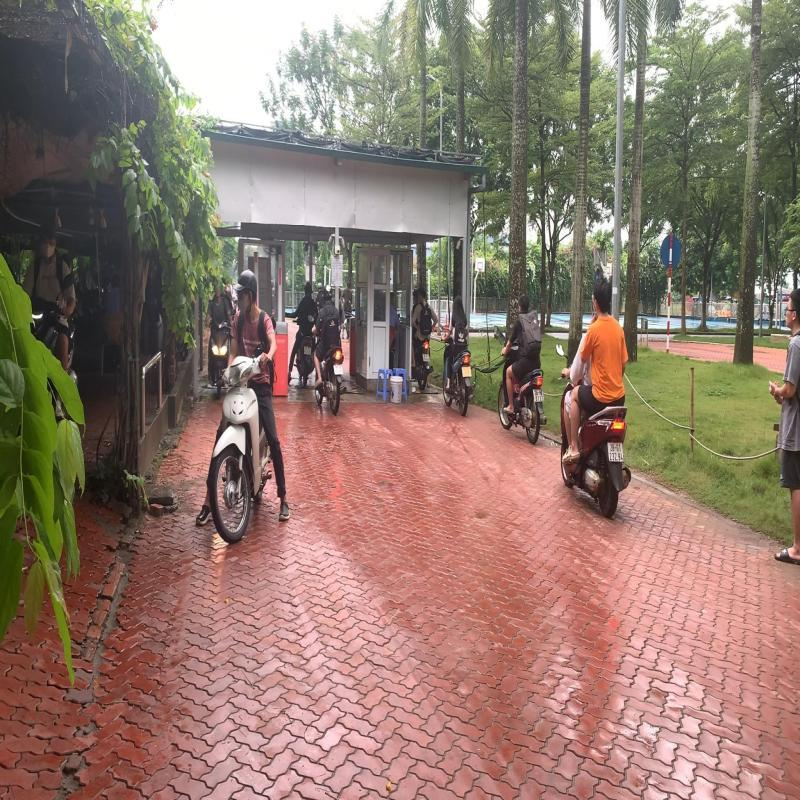nohelmet: (592, 276, 613, 316), (518, 292, 531, 312), (452, 294, 464, 314)
